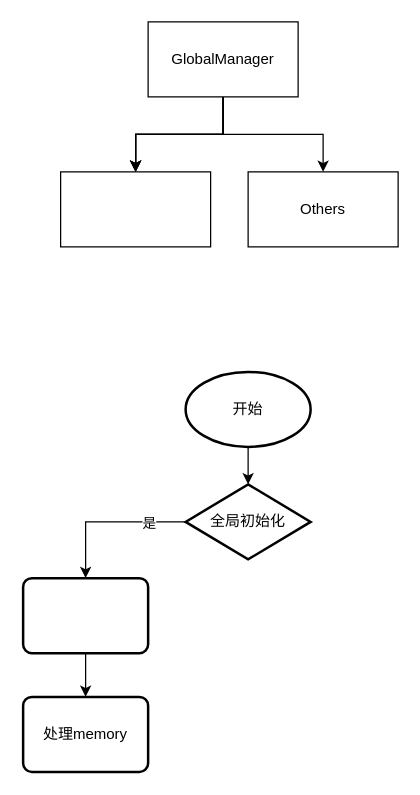
Some shapes in this 420 by 795 pixel diagram are drawn without their labels. The shapes that lost their labels are listed below. From the top down, each one's centre as x and y in pixels, then its label:
the point at 135,209: MemoryMgr
the point at 85,615: version校验 处理segment
